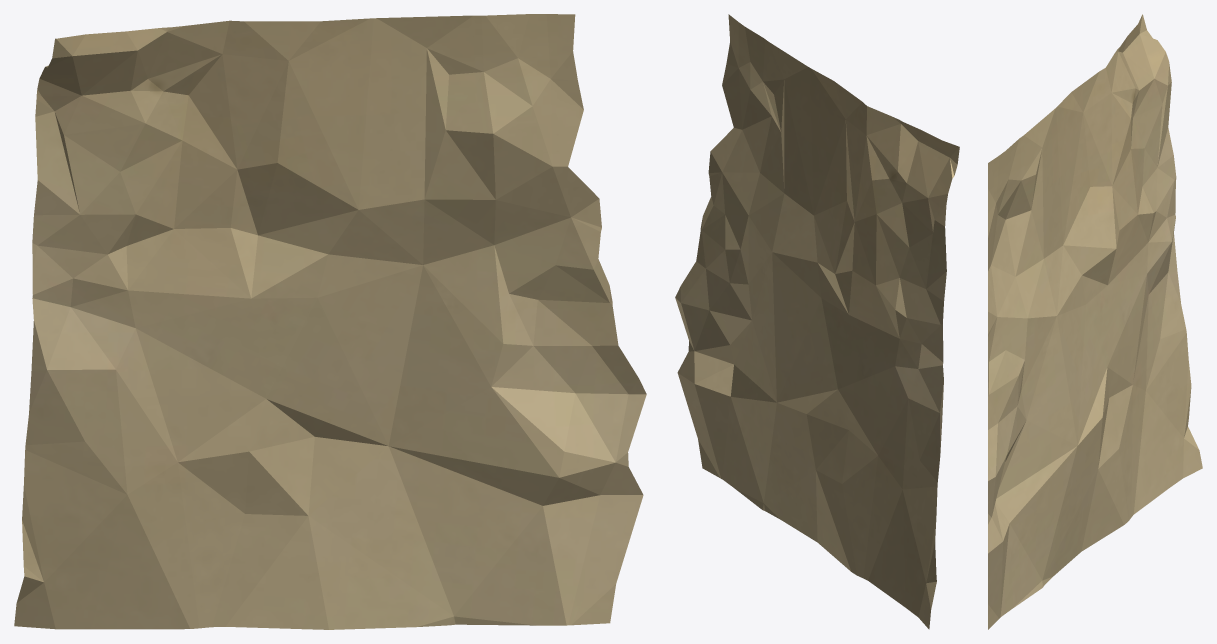
3 views of the same model, side by side, from view 1: azimuth 30°, elevation 25°; view 2: azimuth 150°, elevation 25°; view 3: azimuth 270°, elevation 25° (orthographic). The views are drawn at different scales.
Bounding box in the file's own units: 0.6907 × 0.8374 × 0.3588.
Materials: 2 (2 with a texture image).
